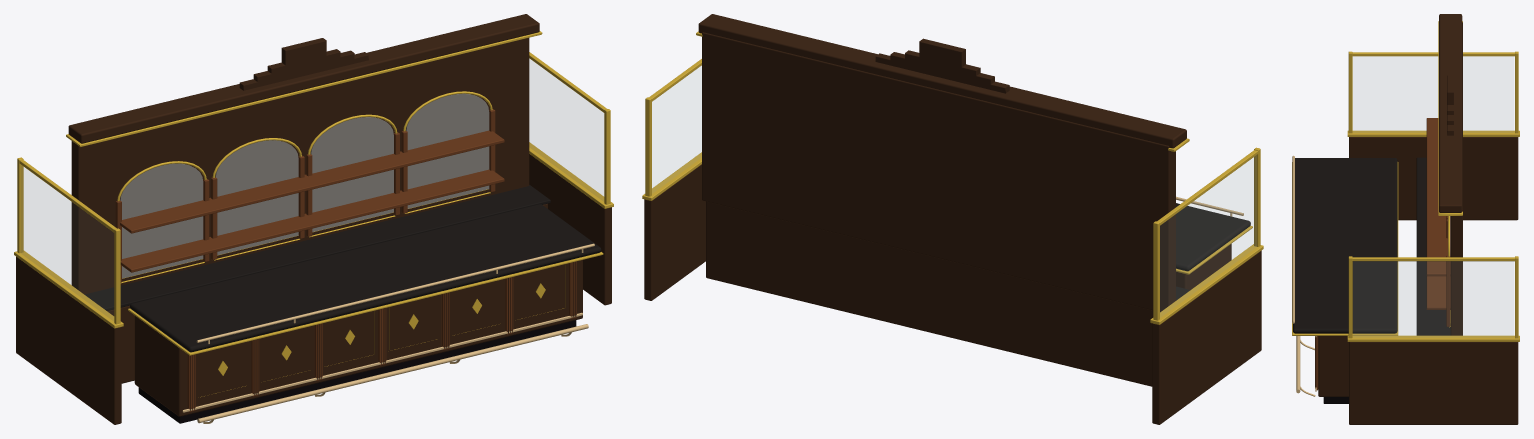
File: counter.glb
3 views of the same model, side by side, from view 1: azimuth 30°, elevation 25°; view 2: azimuth 150°, elevation 25°; view 3: azimuth 270°, elevation 25° (orthographic). The views are drawn at different scales.
Visible parts, largest first — view 1: counter_woodDark, counter_marble, counter_mirror, counter_wood, counter_glass, counter_gold, counter_brass, counter_lacquer; view 2: counter_woodDark, counter_glass, counter_gold, counter_marble; view 3: counter_woodDark, counter_glass, counter_marble, counter_gold, counter_wood, counter_brass.
Part boxes in pixels (<box>): counter_woodDark: <box>16,14,611,424</box>; counter_marble: <box>84,185,601,352</box>; counter_mirror: <box>120,93,489,278</box>; counter_wood: <box>115,109,576,412</box>; counter_glass: <box>21,60,603,320</box>; counter_gold: <box>14,31,613,397</box>; counter_brass: <box>182,243,594,423</box>; counter_lacquer: <box>138,320,576,423</box>; counter_woodDark: <box>644,14,1261,424</box>; counter_glass: <box>652,66,1256,316</box>; counter_gold: <box>642,31,1263,324</box>; counter_marble: <box>1176,203,1250,300</box>; counter_woodDark: <box>1315,14,1518,424</box>; counter_glass: <box>1353,57,1513,336</box>; counter_marble: <box>1293,157,1450,335</box>; counter_gold: <box>1292,21,1519,341</box>; counter_wood: <box>1315,118,1450,390</box>; counter_brass: <box>1292,155,1316,396</box>.
Bounding box in the file's own units: 6.42 × 3.42 × 2.96.
